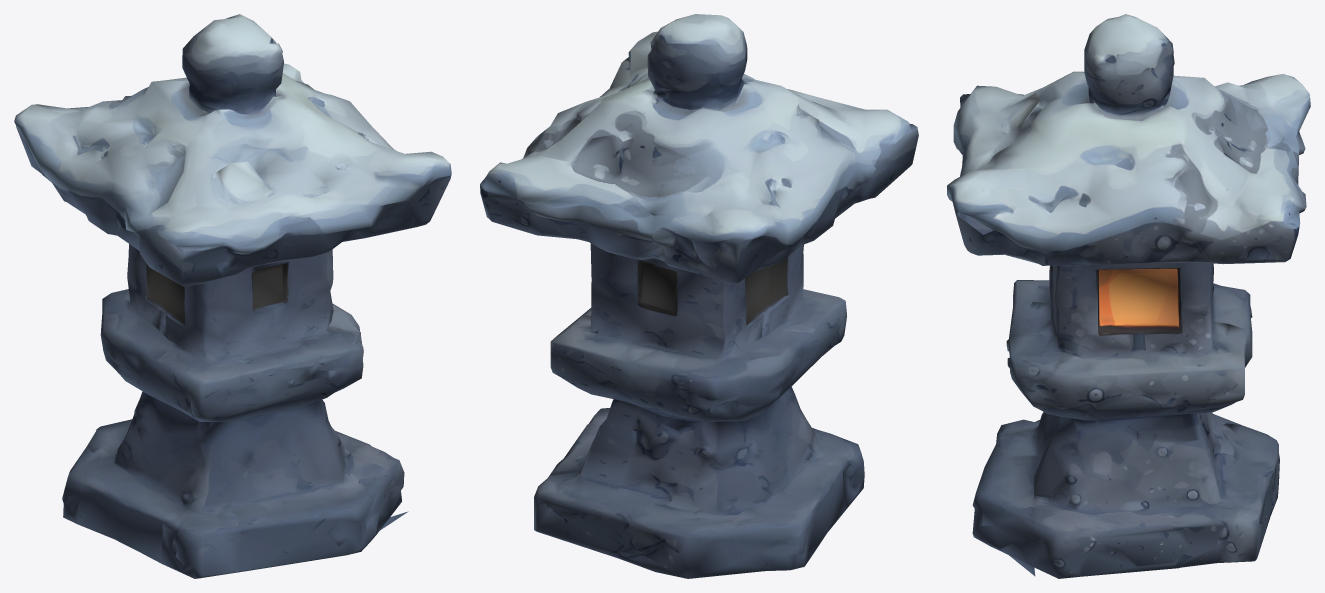
The model's file is snow-lantern.glb.
The picture shows the model from 3 angles, left to right: view 1: azimuth 30°, elevation 25°; view 2: azimuth 150°, elevation 25°; view 3: azimuth 270°, elevation 25°; orthographic projection.
Parts seen in each view (by area): view 1: tripo_node_2b9cbf7e-18fa-421d-88c0-ba4f84e57899; view 2: tripo_node_2b9cbf7e-18fa-421d-88c0-ba4f84e57899; view 3: tripo_node_2b9cbf7e-18fa-421d-88c0-ba4f84e57899.
Part boxes in pixels (left/top/right/bottom): tripo_node_2b9cbf7e-18fa-421d-88c0-ba4f84e57899: left=14, top=14, right=451, bottom=578; tripo_node_2b9cbf7e-18fa-421d-88c0-ba4f84e57899: left=480, top=14, right=918, bottom=578; tripo_node_2b9cbf7e-18fa-421d-88c0-ba4f84e57899: left=947, top=14, right=1310, bottom=578.
Bounding box in the file's own units: 0.6027 × 1 × 0.6693.
Materials: 1 (1 with a texture image).
